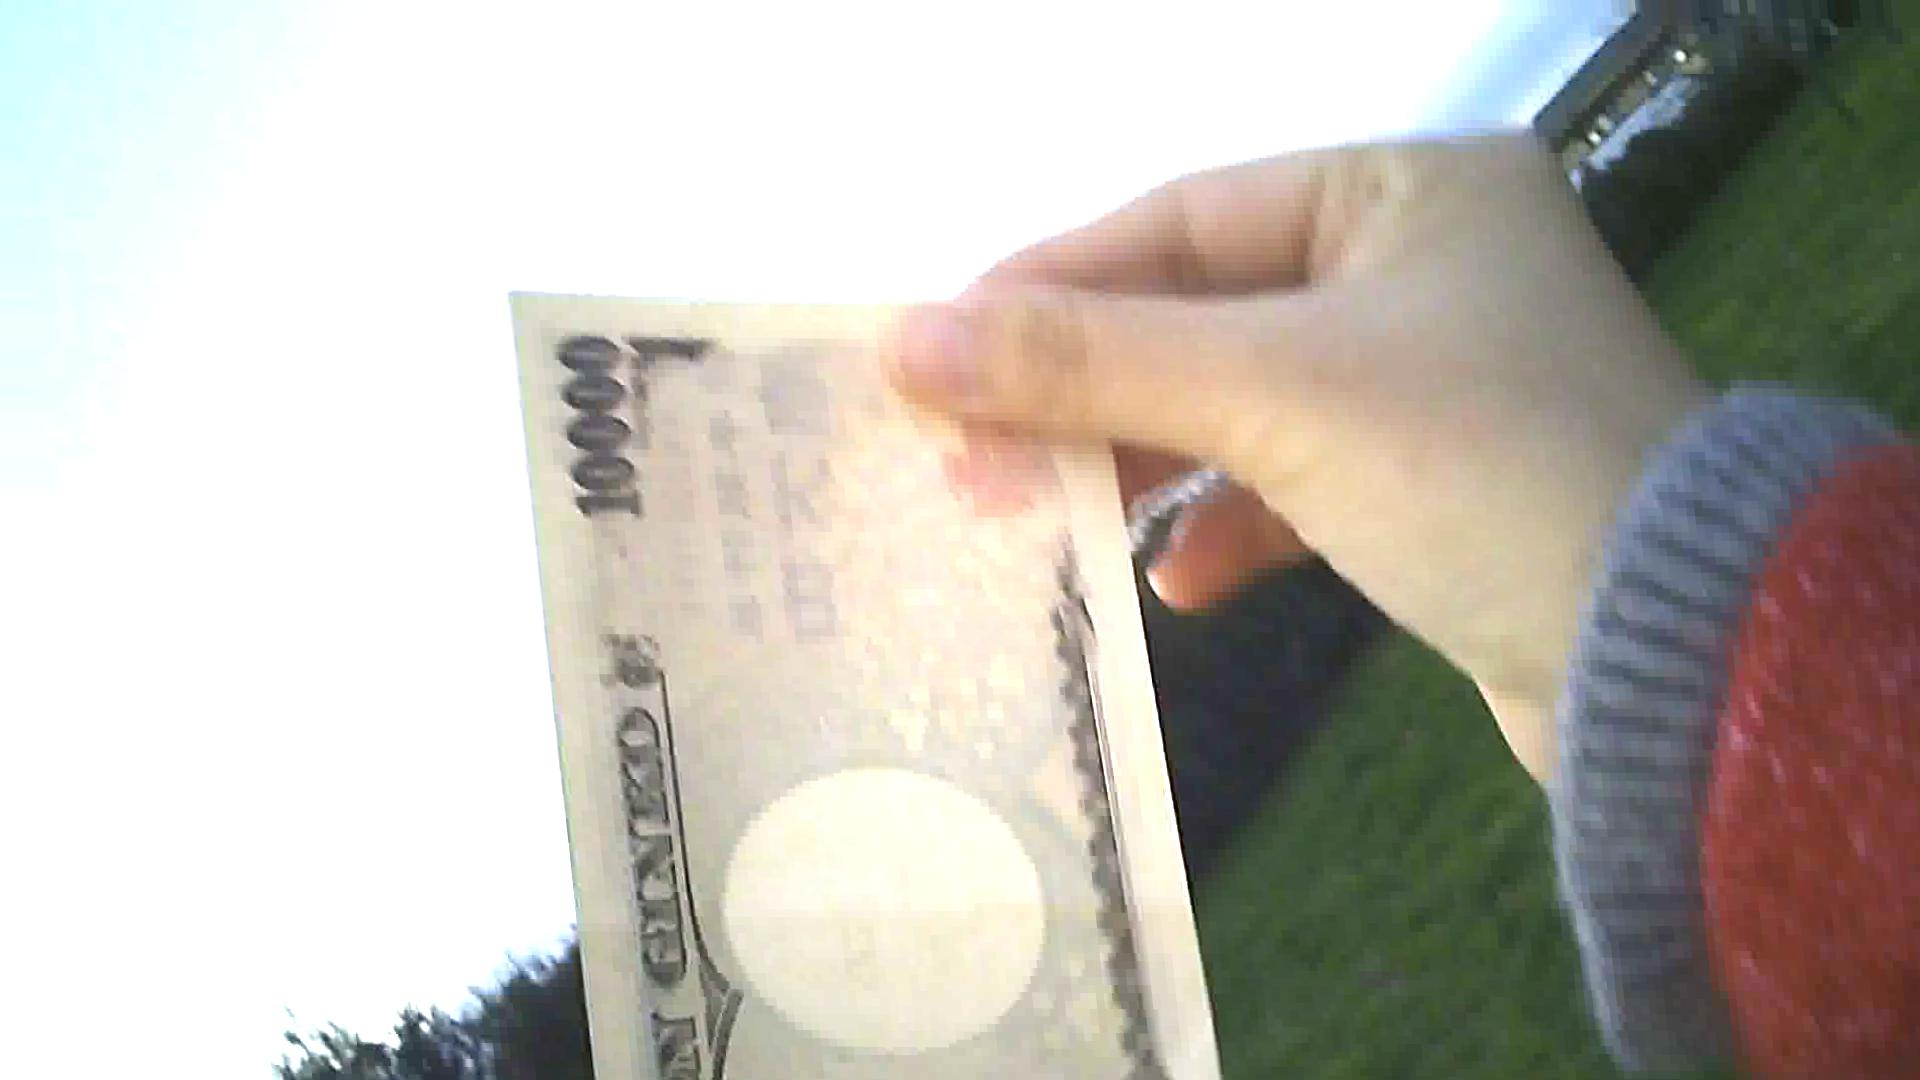10,000 Yen: (485, 272, 1207, 1065)
